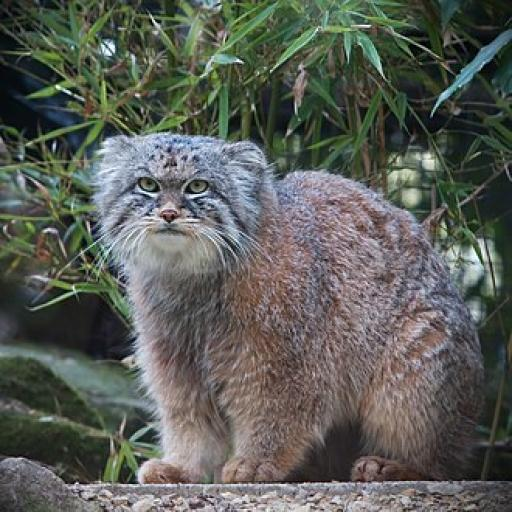manul: (96, 132, 483, 481)
